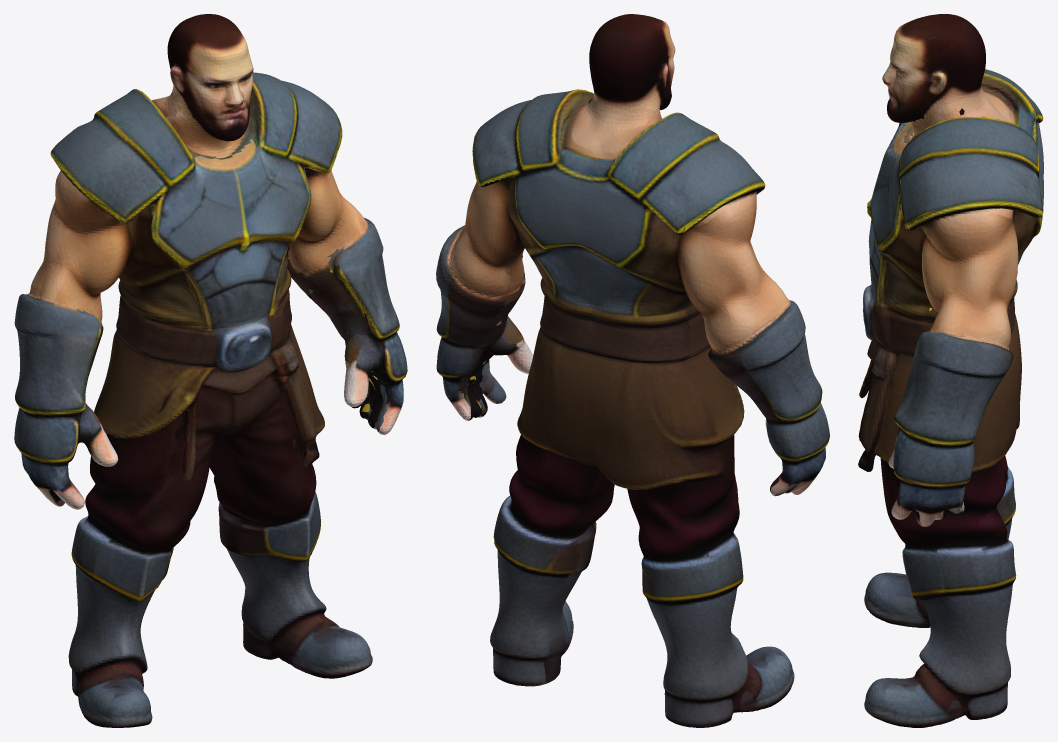
File: darin.glb
3 renders of one model, left to right at view 1: azimuth 30°, elevation 25°; view 2: azimuth 150°, elevation 25°; view 3: azimuth 270°, elevation 25°, orthographic. The views are drawn at different scales.
Parts seen in each view (by area): view 1: tmp2n22y0fv.ply; view 2: tmp2n22y0fv.ply; view 3: tmp2n22y0fv.ply.
Part boxes in pixels (left/top/right/bottom): tmp2n22y0fv.ply: left=14, top=14, right=407, bottom=727; tmp2n22y0fv.ply: left=436, top=14, right=829, bottom=727; tmp2n22y0fv.ply: left=858, top=14, right=1043, bottom=727.
Size of the model in its own units: 1.19 by 1.99 by 0.5183.
1 material, 1 textured.
